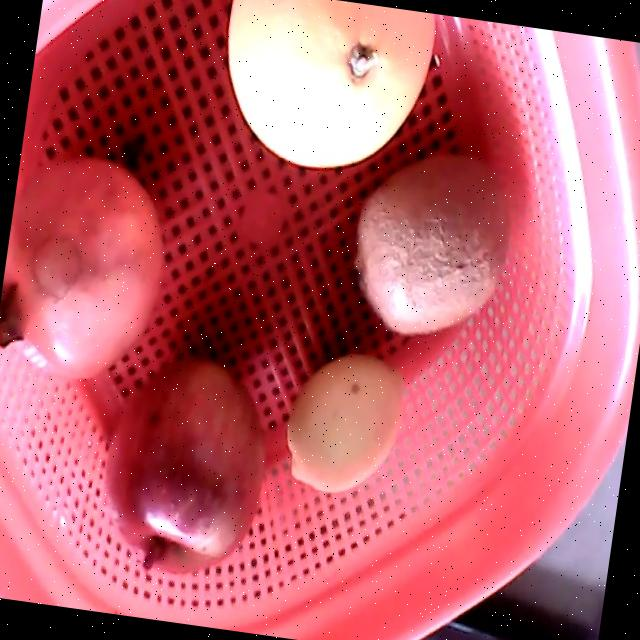apple: (103, 354, 266, 574)
kiwi: (354, 150, 510, 333)
lemon: (286, 354, 401, 491)
orange: (228, 0, 436, 168)
pomegranate: (0, 158, 163, 379)
